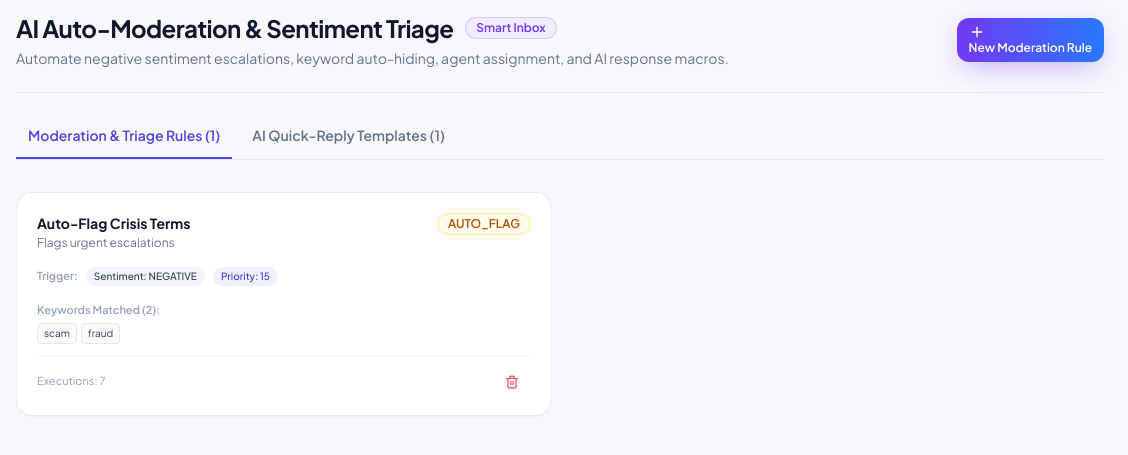
it: Phase 20: Inbox Moderation & Triage Components › switches to reply templates tab and renders templates
What coordinates should you click on to do the following:
click the button "AI Quick-Reply Templates (1)"
I would click on:
 (349, 142)
Its box is [240,125,457,159].
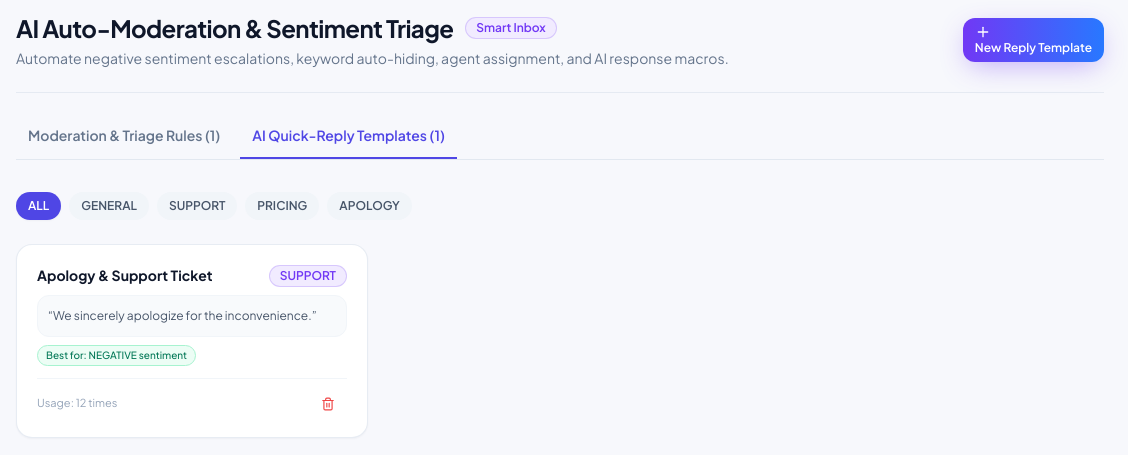
expect the heading "Apology & Support Ticket" is shown: met, box [37,265,212,285]
expect the text "Usage: 12 times" is shown: met, box [37,395,117,412]
